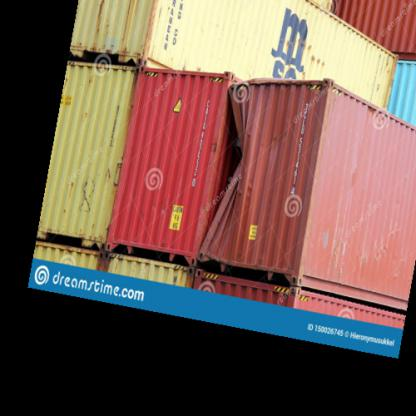Damage: (205, 99, 252, 241)
